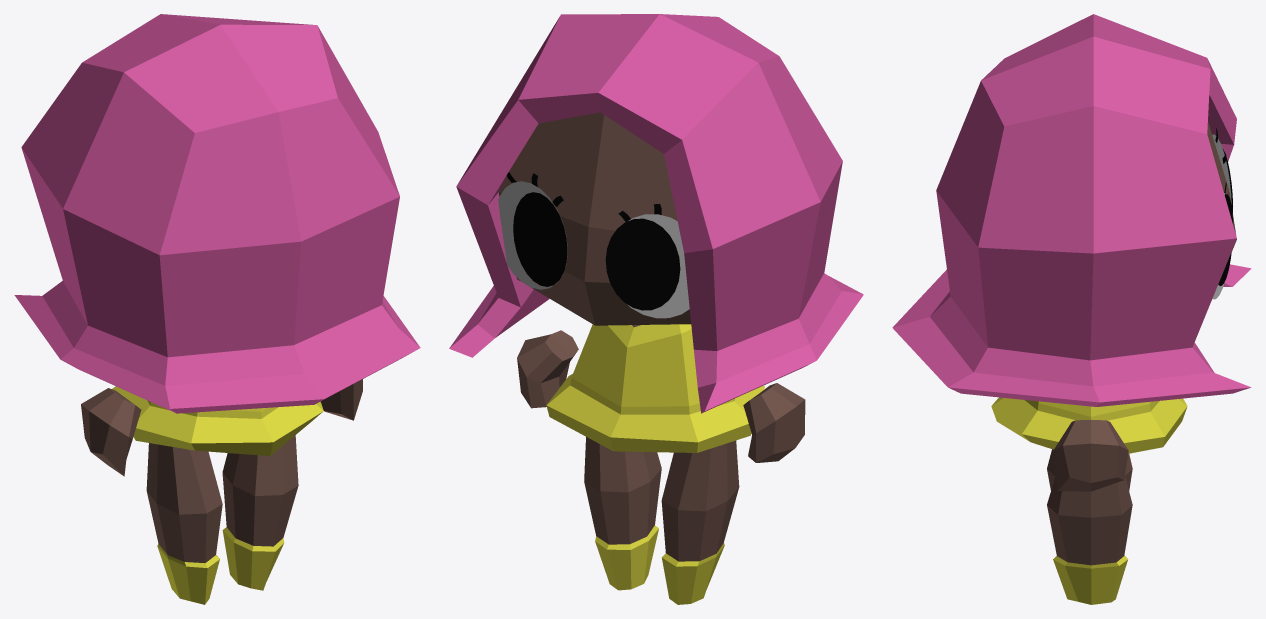
File: Character_c.fbx
3 views of the same model, side by side, from view 1: azimuth 30°, elevation 25°; view 2: azimuth 150°, elevation 25°; view 3: azimuth 270°, elevation 25° (orthographic). The views are drawn at different scales.
Visible parts, largest first — view 1: Character_c_hair, Character_c_leg_left, Character_c_leg_right, Character_c_body, Character_c_hand_left, Character_c_hand_right; view 2: Character_c_hair, Character_c_head, Character_c_body, Character_c_leg_left, Character_c_eyes_black, Character_c_leg_right, Character_c_hand_left, Character_c_eyes_white, Character_c_hand_right; view 3: Character_c_hair, Character_c_leg_right, Character_c_body, Character_c_hand_right.
Boxes of the visible parts, x1,y1,x2,y2 form: Character_c_hair: [14, 14, 420, 413]; Character_c_leg_left: [146, 443, 222, 604]; Character_c_leg_right: [222, 435, 298, 590]; Character_c_body: [112, 386, 323, 455]; Character_c_hand_left: [81, 388, 141, 476]; Character_c_hand_right: [320, 379, 362, 420]; Character_c_hair: [449, 14, 863, 413]; Character_c_head: [498, 112, 691, 325]; Character_c_body: [546, 324, 764, 452]; Character_c_leg_left: [661, 440, 739, 604]; Character_c_eyes_black: [513, 192, 680, 310]; Character_c_leg_right: [584, 437, 661, 590]; Character_c_hand_left: [743, 383, 805, 462]; Character_c_eyes_white: [498, 181, 689, 318]; Character_c_hand_right: [517, 330, 578, 408]; Character_c_hair: [892, 14, 1251, 406]; Character_c_leg_right: [1047, 475, 1132, 604]; Character_c_body: [991, 397, 1187, 453]; Character_c_hand_right: [1053, 420, 1128, 491].
Size of the model in its own units: 162 by 279 by 165.
